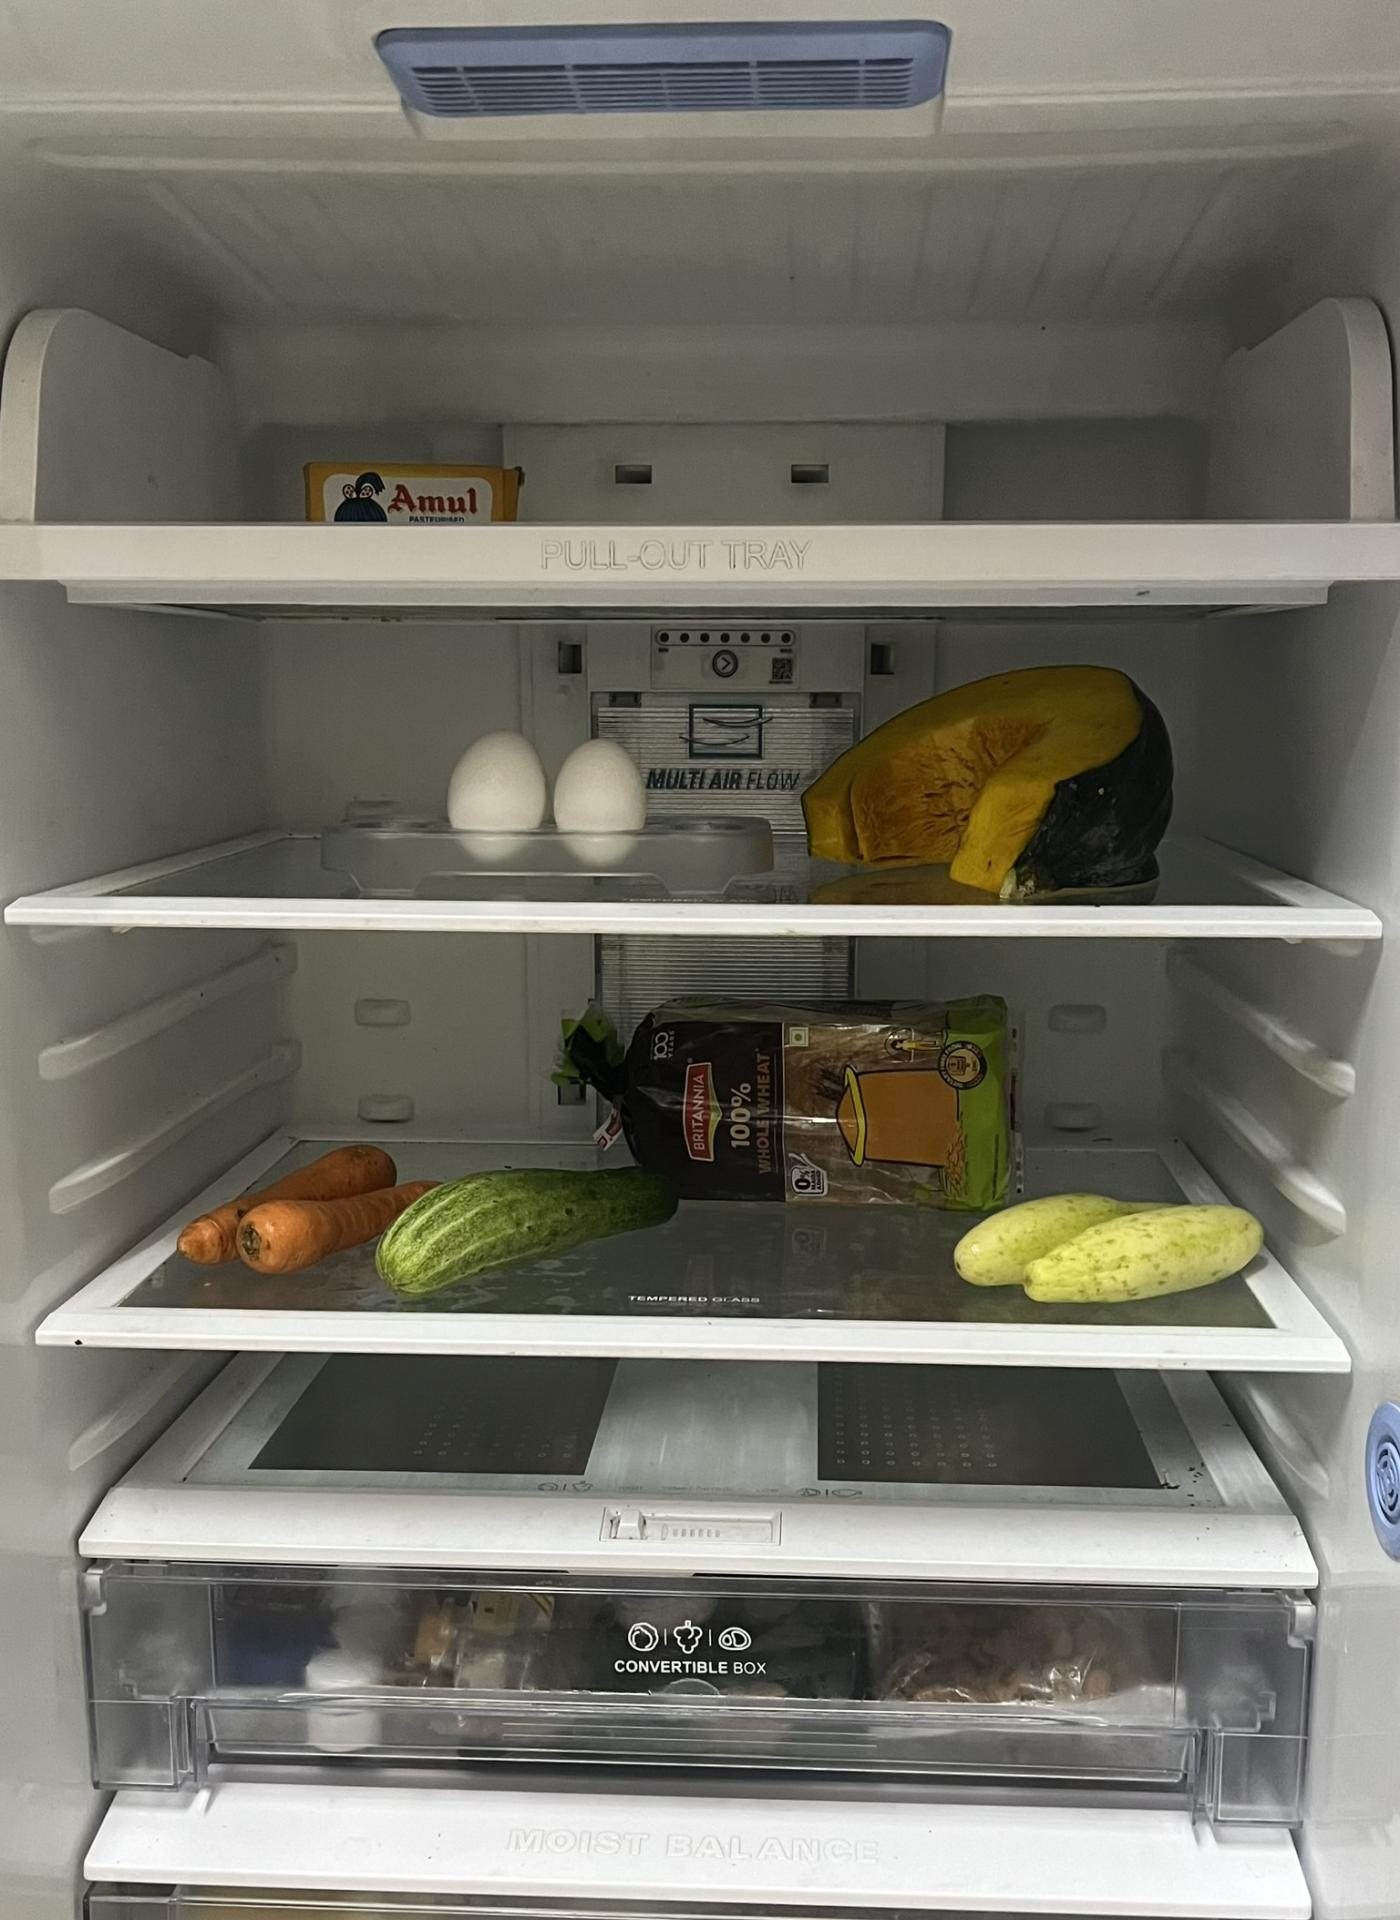bread: (571, 1008, 1006, 1200)
butter: (309, 462, 520, 529)
carrots: (177, 1139, 414, 1266)
cucumber: (373, 1176, 674, 1303), (959, 1196, 1278, 1310)
egg: (450, 726, 655, 860)
pumpkin: (796, 659, 1181, 899)
